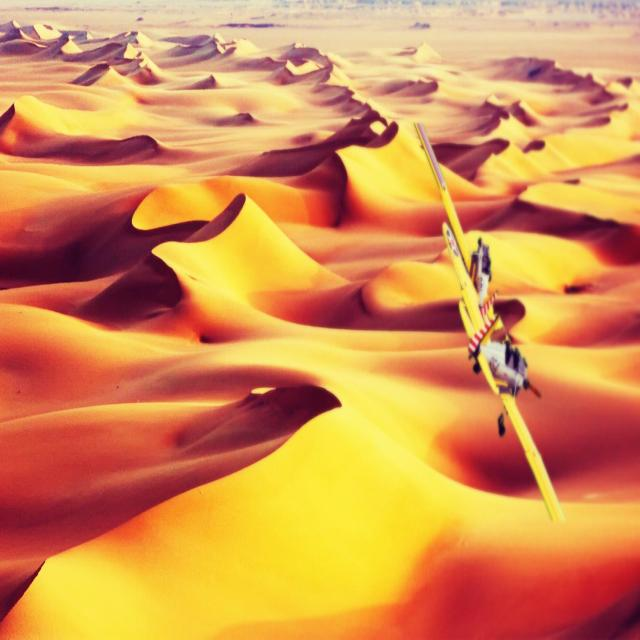airplane: (413, 121, 565, 524)
